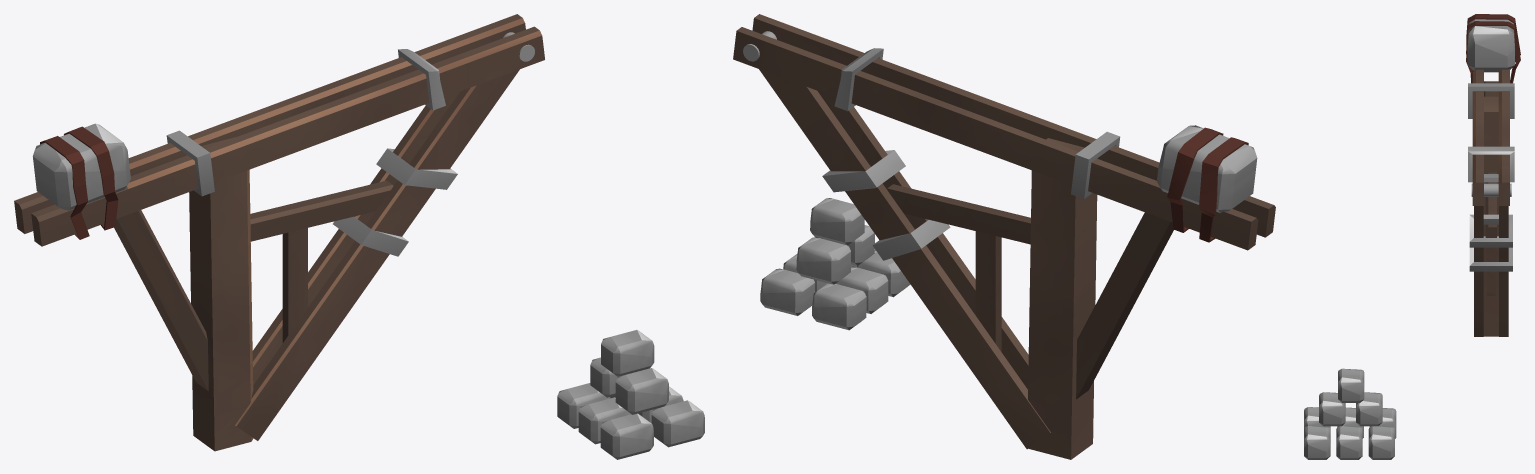
Rendered from winch_1lvl.fbx.
3 views of the same model, side by side, from view 1: azimuth 30°, elevation 25°; view 2: azimuth 150°, elevation 25°; view 3: azimuth 270°, elevation 25° (orthographic). The views are drawn at different scales.
Visible parts, largest first — view 1: winch_1lvl; view 2: winch_1lvl; view 3: winch_1lvl.
Part boxes in pixels (<box>): winch_1lvl: <box>14,14,704,459</box>; winch_1lvl: <box>733,14,1275,459</box>; winch_1lvl: <box>1304,14,1520,459</box>.
Size of the model in its own units: 6.49 by 3.8 by 2.87.
